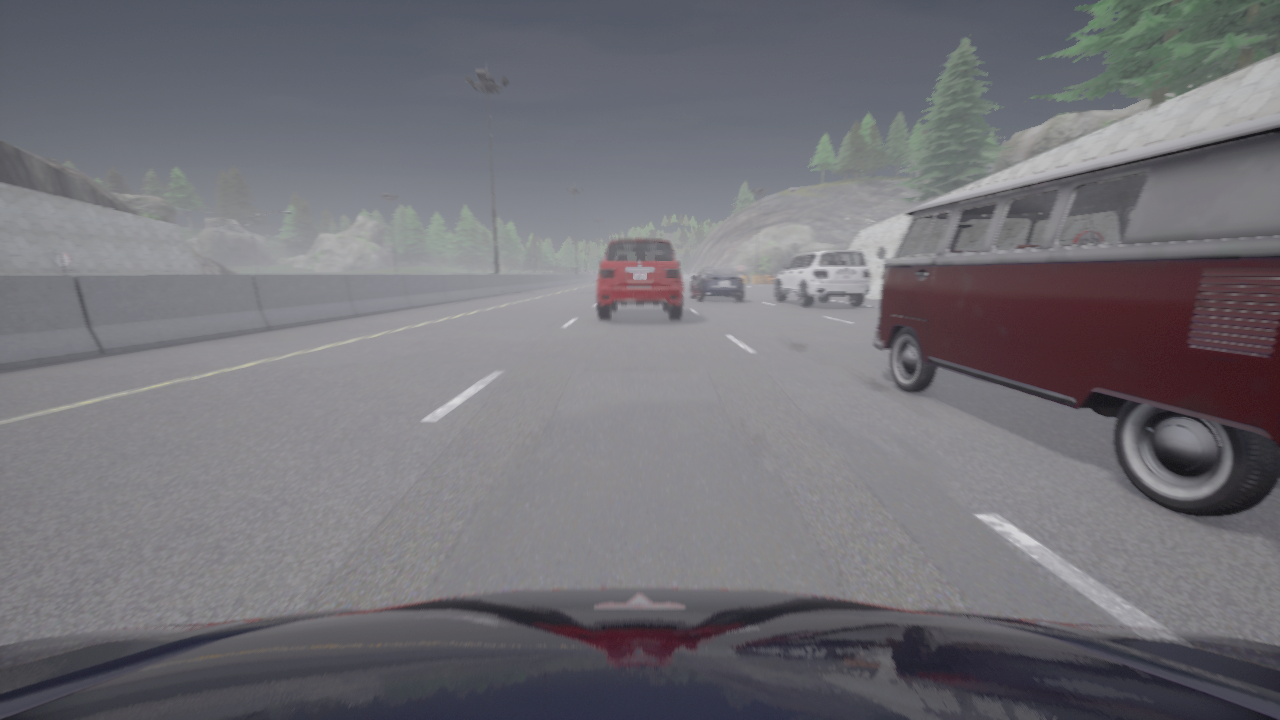cyclist: (0, 588, 1279, 719), (874, 113, 1279, 517), (597, 239, 682, 319), (775, 250, 870, 306), (691, 267, 743, 301)
